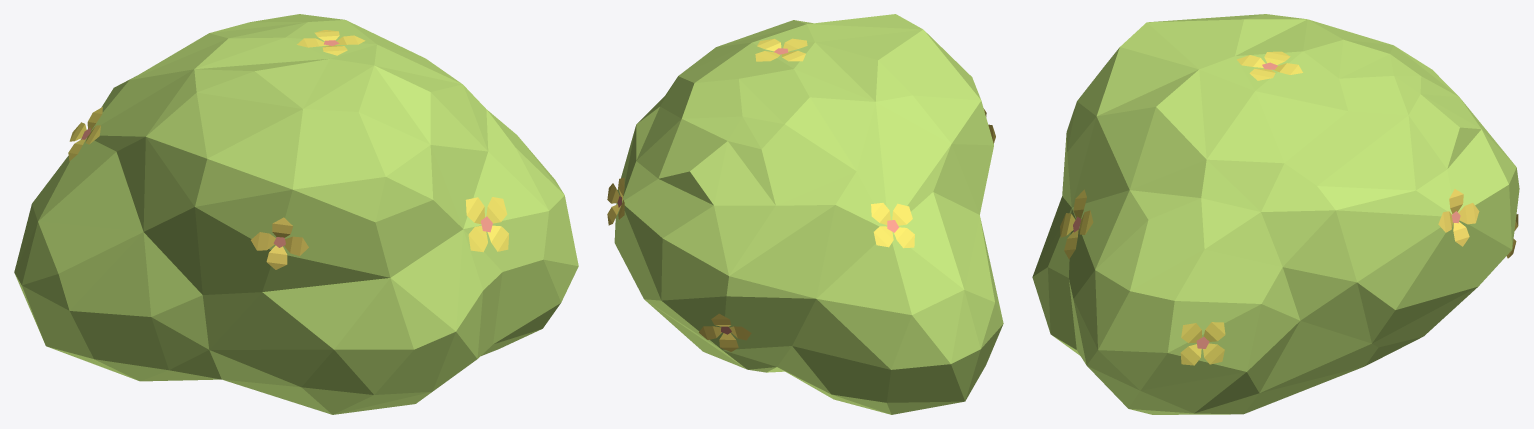
File: FlowerBush_a_l_02.fbx
3 views of the same model, side by side, from view 1: azimuth 30°, elevation 25°; view 2: azimuth 150°, elevation 25°; view 3: azimuth 270°, elevation 25° (orthographic). The views are drawn at different scales.
Parts seen in each view (by area): view 1: FlowerBush_a_l_02_LOD0; view 2: FlowerBush_a_l_02_LOD0; view 3: FlowerBush_a_l_02_LOD0.
Part boxes in pixels (box(x1,y1,x2,y2)): FlowerBush_a_l_02_LOD0: box(14, 14, 578, 414); FlowerBush_a_l_02_LOD0: box(607, 14, 1003, 414); FlowerBush_a_l_02_LOD0: box(1032, 14, 1519, 414).
Size of what is drawn, in the model's own units: 336 by 228 by 314.
